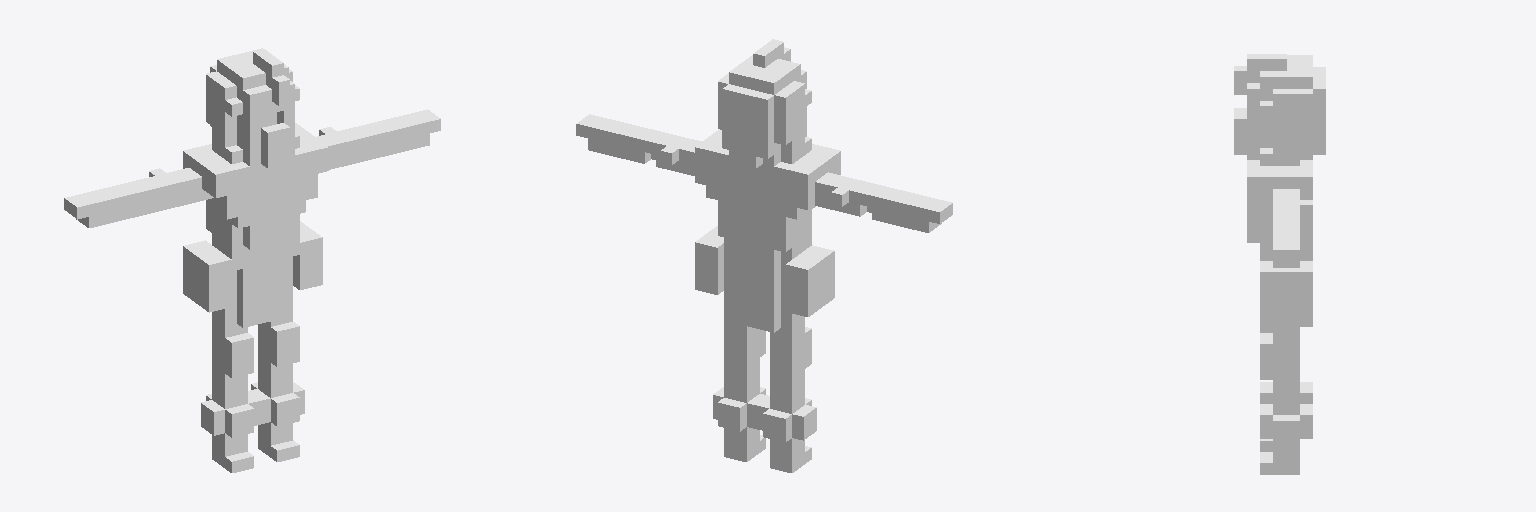
File: Character3.obj
3 views of the same model, side by side, from view 1: azimuth 30°, elevation 25°; view 2: azimuth 150°, elevation 25°; view 3: azimuth 270°, elevation 25° (orthographic).
Visible parts, largest first — view 1: Character02_Mesh.002; view 2: Character02_Mesh.002; view 3: Character02_Mesh.002.
Part boxes in pixels (x1,y1,x2,y2): Character02_Mesh.002: (64,48,440,472); Character02_Mesh.002: (576,39,952,472); Character02_Mesh.002: (1234,54,1325,474).
Size of the model in its own units: 12.15 by 12.91 by 2.66.